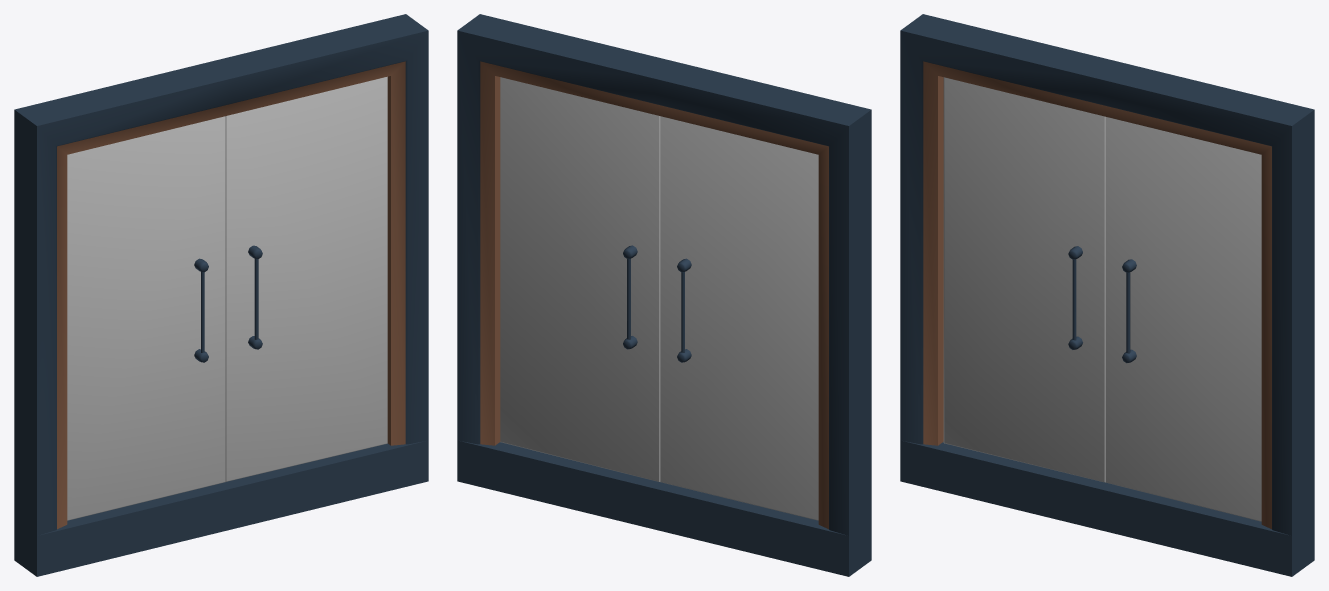
Rendered from Glass-Door-1-1.fbx.
3 renders of one model, left to right at view 1: azimuth 30°, elevation 25°; view 2: azimuth 150°, elevation 25°; view 3: azimuth 330°, elevation 25°, orthographic.
Parts seen in each view (by area): view 1: Glass-Door-1-1, Glass-Door-1, Glass-Door-1-2; view 2: Glass-Door-1-1, Glass-Door-1, Glass-Door-1-2; view 3: Glass-Door-1-1, Glass-Door-1-2, Glass-Door-1.
Boxes of the visible parts, x1,y1,x2,y2 form: Glass-Door-1-1: (14, 14, 428, 576); Glass-Door-1: (225, 76, 387, 481); Glass-Door-1-2: (67, 116, 225, 520); Glass-Door-1-1: (457, 14, 871, 576); Glass-Door-1: (500, 77, 660, 481); Glass-Door-1-2: (660, 116, 818, 520); Glass-Door-1-1: (900, 14, 1314, 576); Glass-Door-1-2: (943, 77, 1105, 482); Glass-Door-1: (1105, 117, 1261, 521).
Bounding box in the file's own units: 2 × 2.2 × 0.2.
